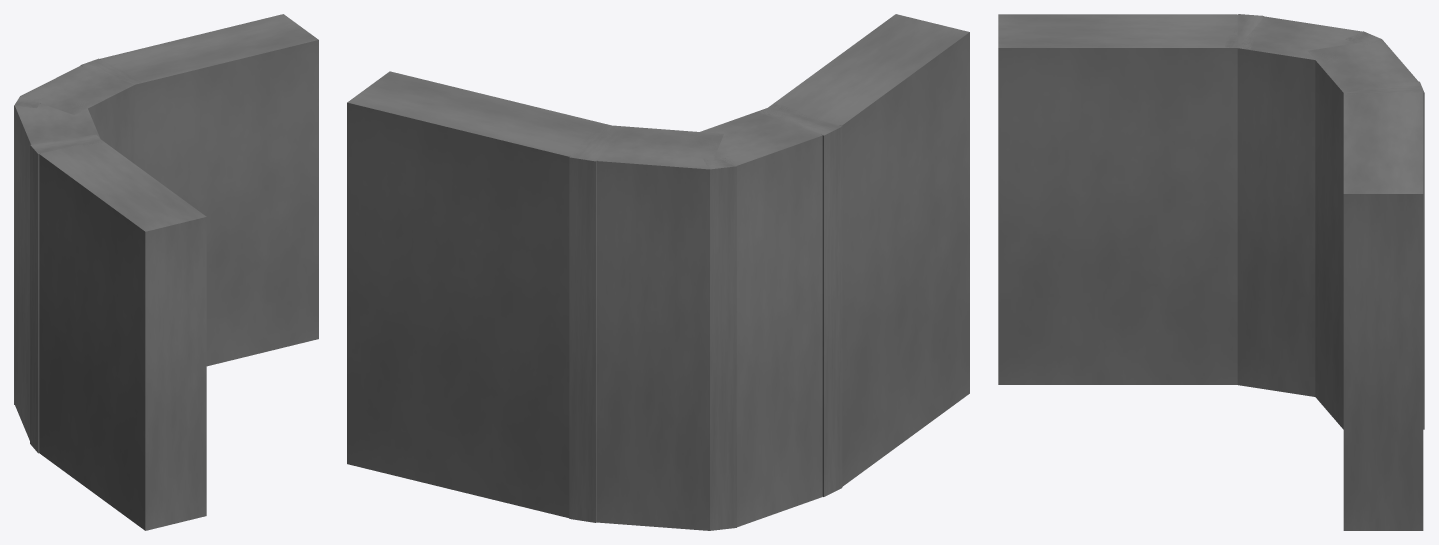
The model's file is dc_metro_fence_200.obj.
3 views of the same model, side by side, from view 1: azimuth 30°, elevation 25°; view 2: azimuth 150°, elevation 25°; view 3: azimuth 270°, elevation 25° (orthographic). The views are drawn at different scales.
Parts seen in each view (by area): view 1: cube; view 2: cube; view 3: cube.
Part boxes in pixels (<box>): cube: <box>14,14,318,530</box>; cube: <box>347,14,969,530</box>; cube: <box>998,14,1424,530</box>.
Size of the model in its own units: 1 by 0.875 by 1.
Materials: 1 (1 with a texture image).
